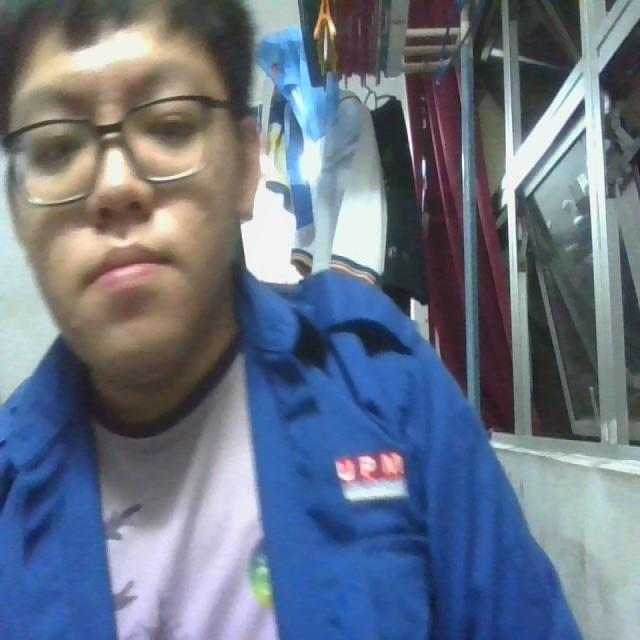person_with_labcoat: (0, 0, 597, 639)
